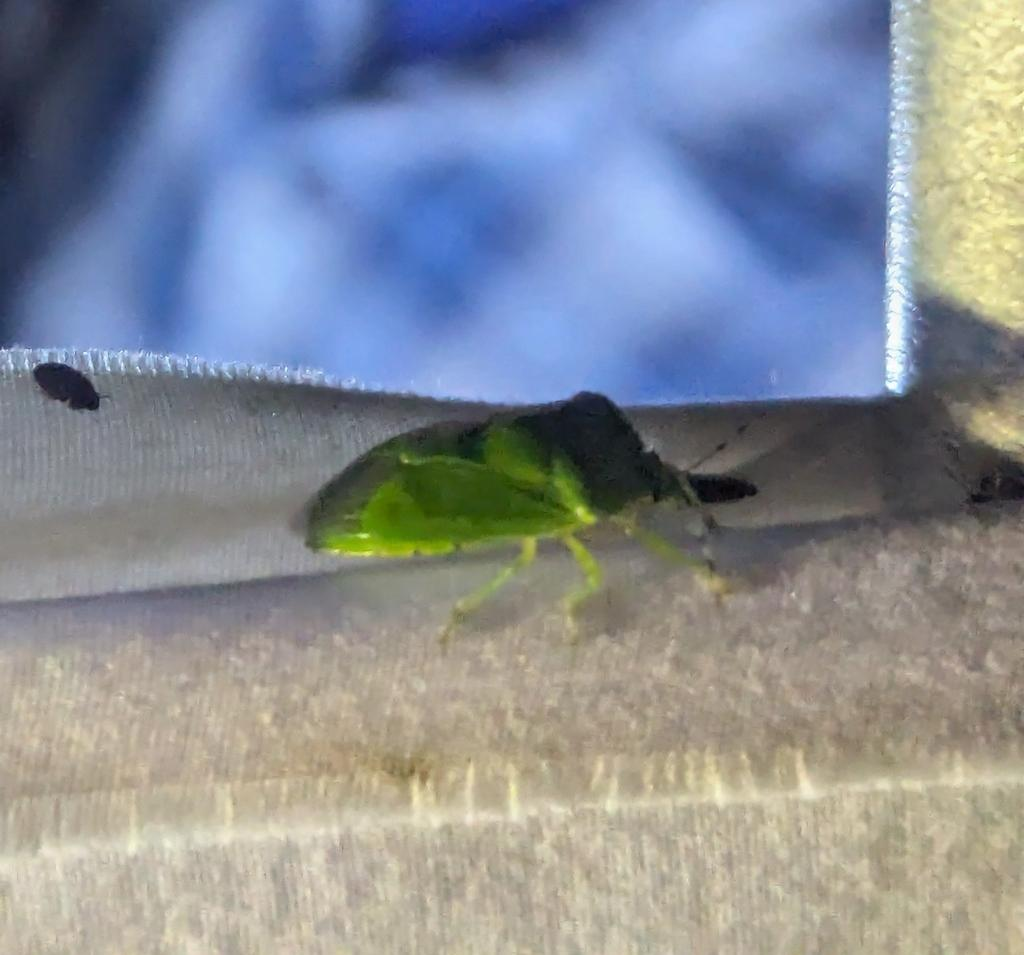stink_bugs: (246, 305, 833, 684)
